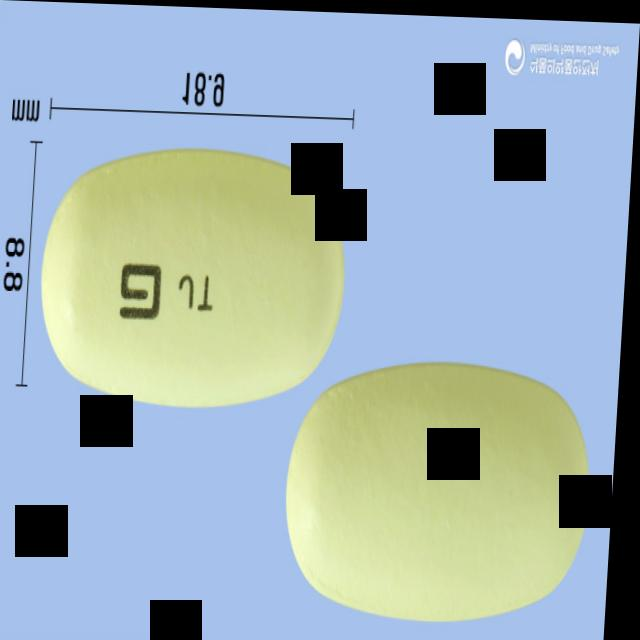Klaricid Film Coated: (284, 353, 602, 626), (38, 140, 356, 412)
